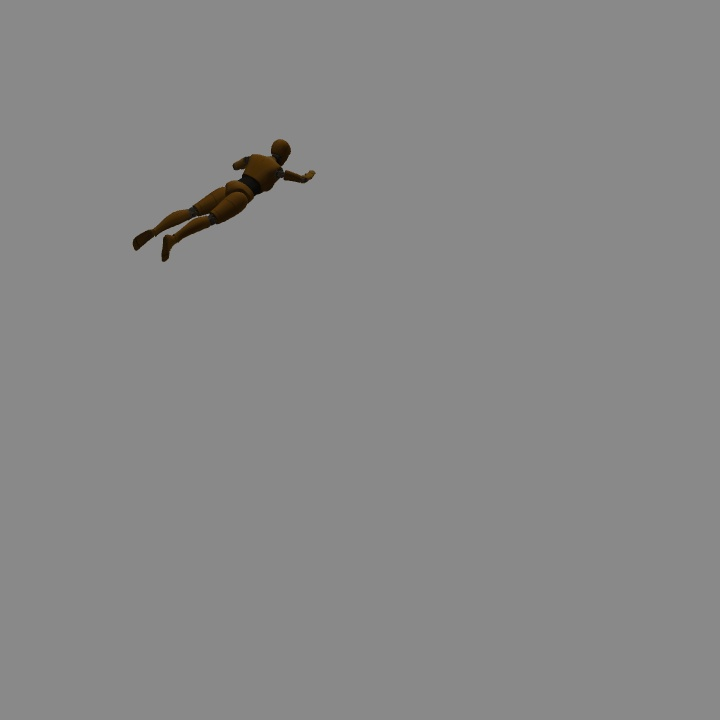victim: (134, 141, 293, 261)
